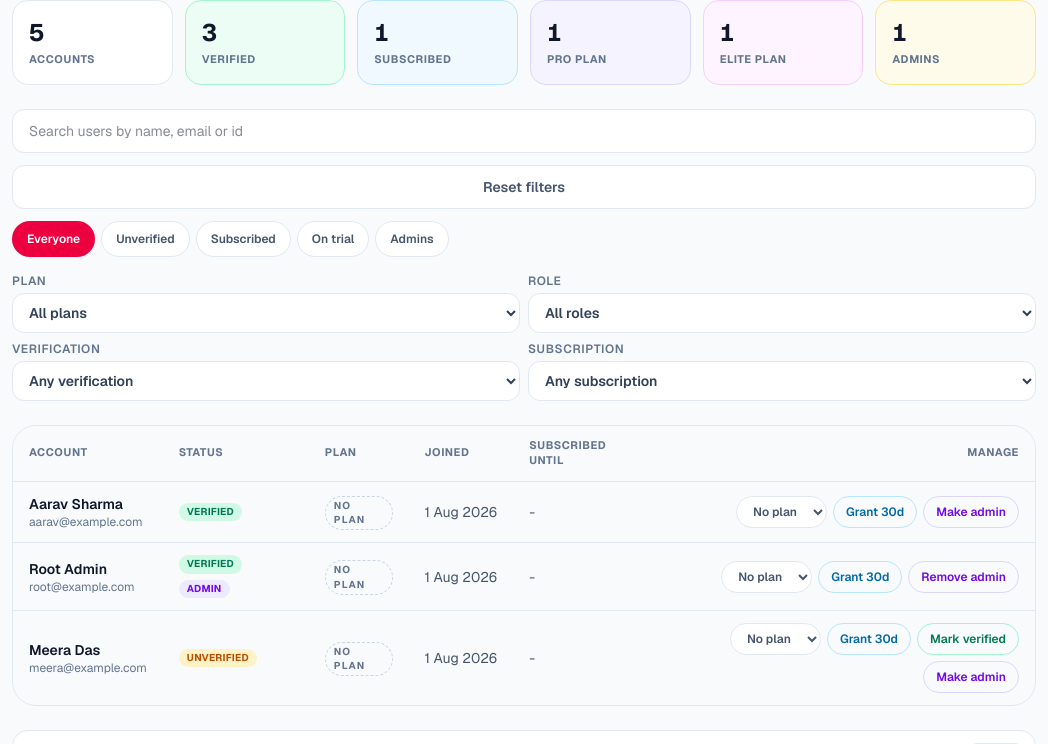
Test: AdminUsers › sends a plan change and moves the account onto the subscriptions page
expect the table is shown: met, box left=13, top=426, right=1035, bottom=705
Select "Pro" in the dropdown named "Plan for Aarav Sharma" at (782, 512), box left=736, top=496, right=827, bottom=528
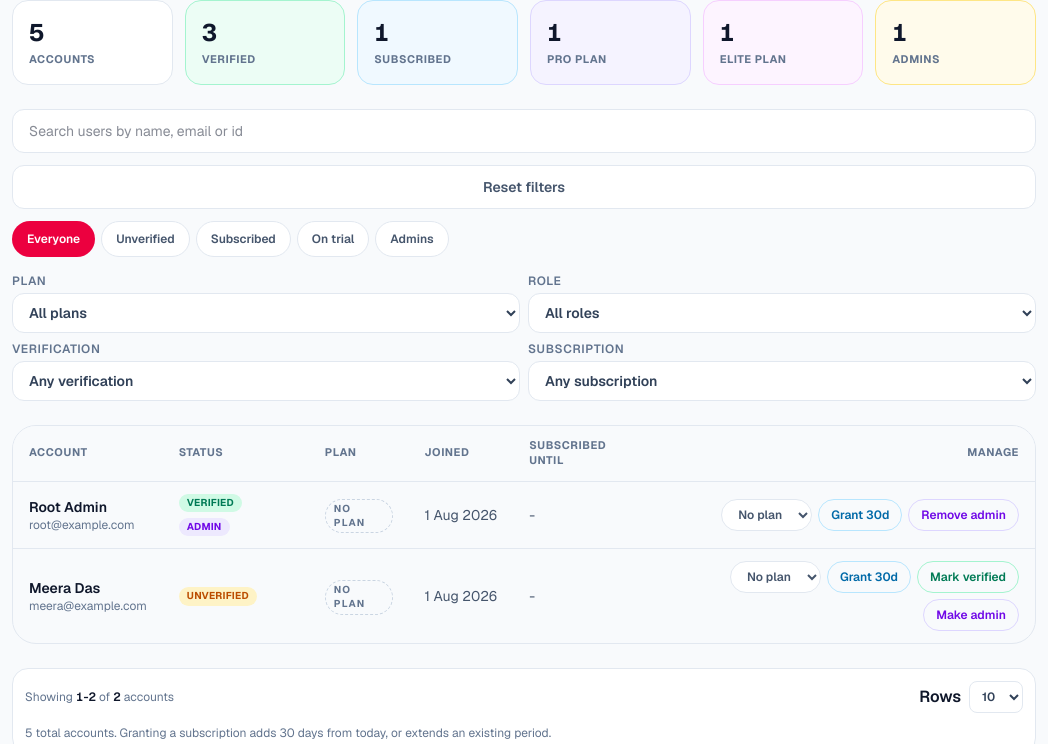
expect the text "Aarav Sharma" is gone: met
